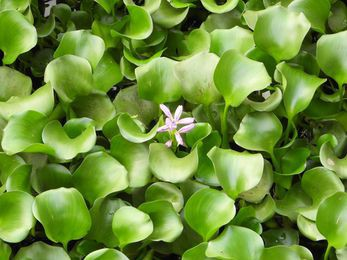water_hyacinth: (0, 1, 347, 260)
